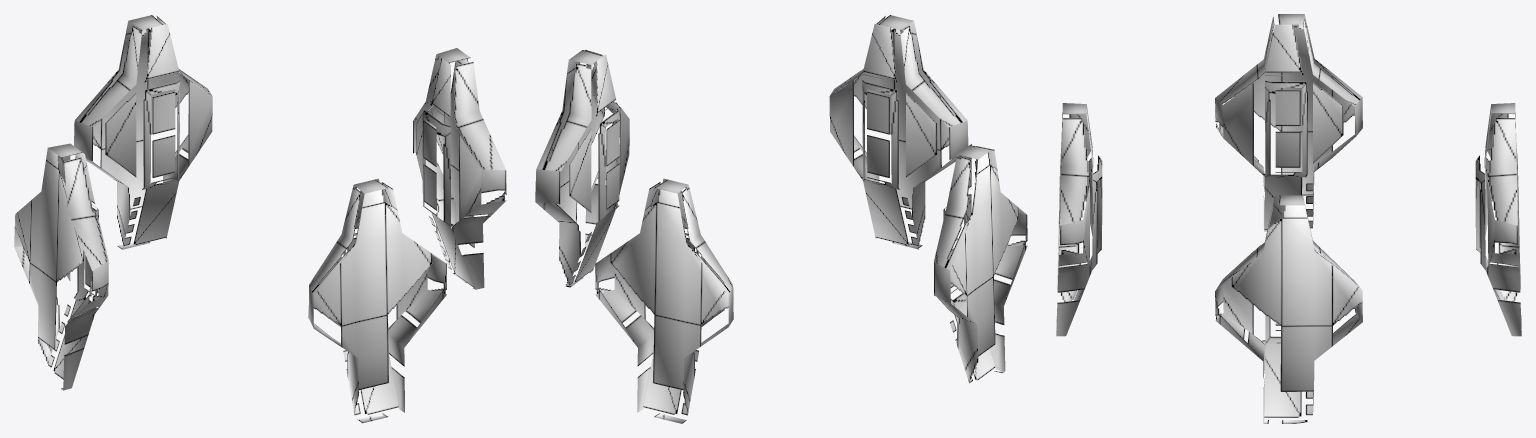
The model's file is pylon.obj.
3 renders of one model, left to right at view 1: azimuth 30°, elevation 25°; view 2: azimuth 150°, elevation 25°; view 3: azimuth 270°, elevation 25°, orthographic. The views are drawn at different scales.
Parts seen in each view (by area): view 1: pylon; view 2: pylon; view 3: pylon.
Part boxes in pixels (x1,y1,x2,y2): pylon: (14, 15, 506, 423); pylon: (535, 15, 1027, 423); pylon: (1056, 14, 1521, 423).
Size of the model in its own units: 1.5 by 0.769 by 1.5.
